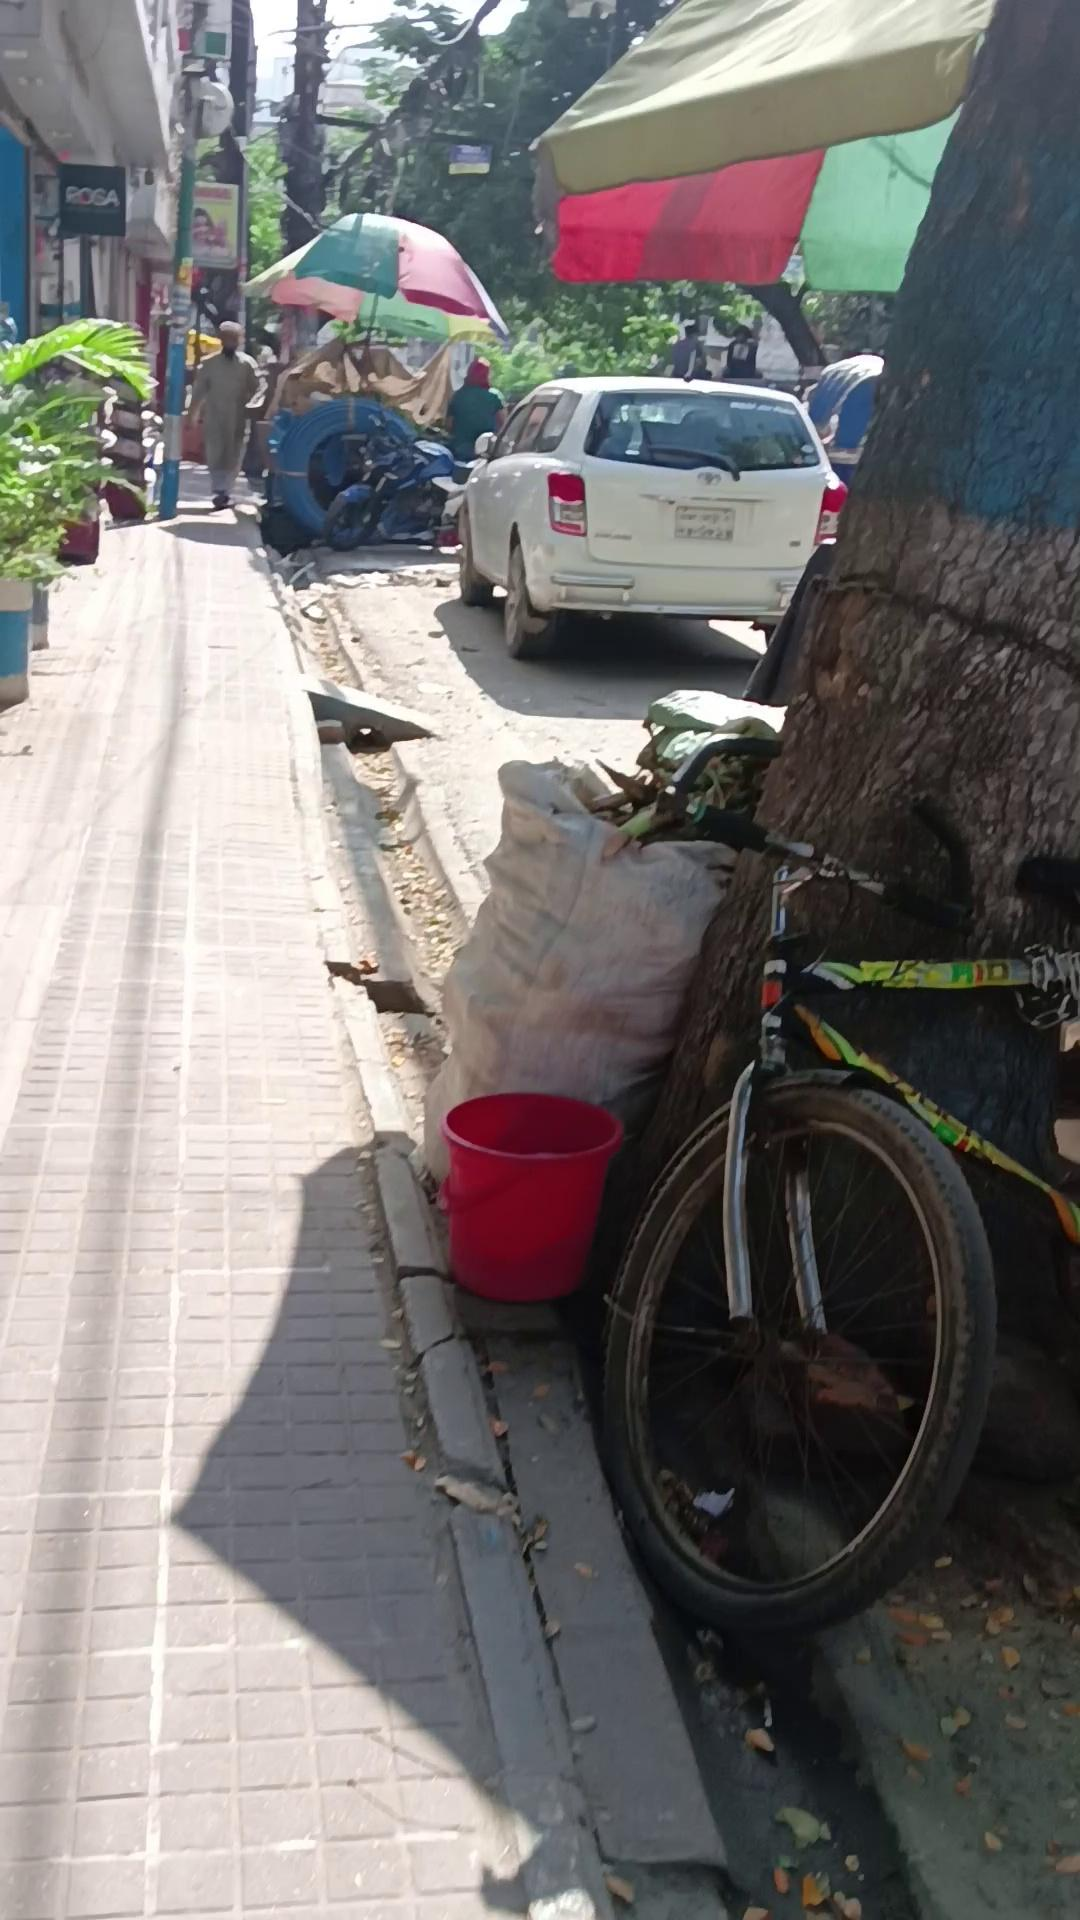Bollard: (455, 373, 851, 659)
Broken-road: (262, 531, 909, 1920)
Cat: (436, 1089, 624, 1303)
Construction-barrier: (585, 709, 1077, 1636)
Curb: (187, 320, 260, 508)
Dog: (156, 144, 196, 518)
Fallen-tree: (0, 313, 157, 709)
Garbage: (0, 471, 666, 1920)
Light-pole: (705, 3, 1077, 1495)
